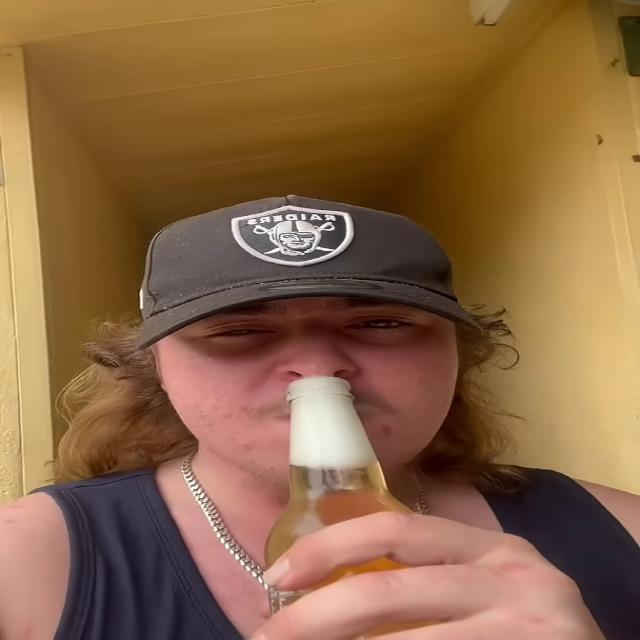Bottle: (265, 379, 463, 639)
Hand: (230, 503, 611, 640)
Mouth: (269, 399, 390, 424)
